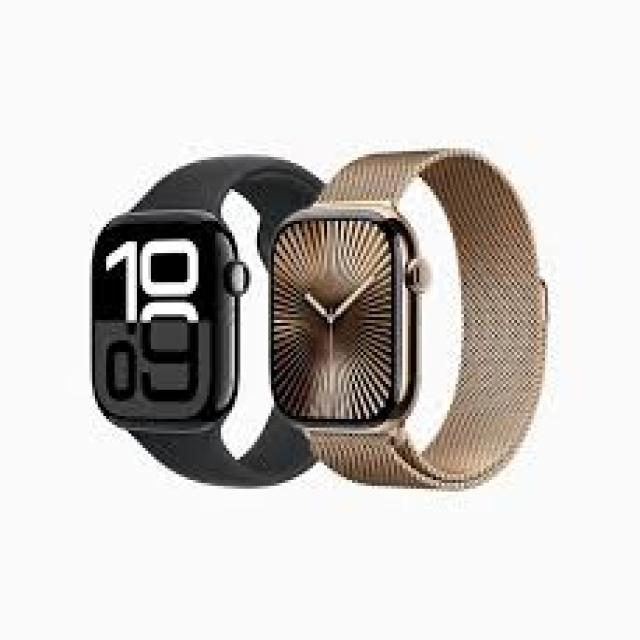watch: (264, 182, 447, 445)
